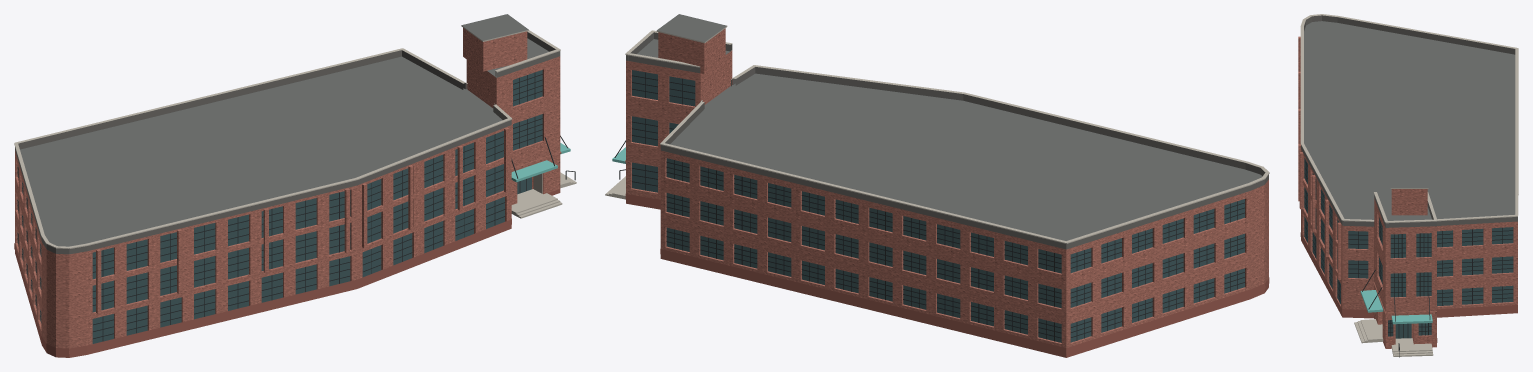
3 views of the same model, side by side, from view 1: azimuth 30°, elevation 25°; view 2: azimuth 150°, elevation 25°; view 3: azimuth 270°, elevation 25° (orthographic). The views are drawn at different scales.
Visible parts, largest first — view 1: welfare__roof, welfare__wall, welfare__glass, welfare__parapet, welfare__frame, welfare__base, welfare__trim, welfare__stair__tread, welfare__canopy; view 2: welfare__roof, welfare__wall, welfare__glass, welfare__parapet, welfare__frame, welfare__base, welfare__trim; view 3: welfare__roof, welfare__wall, welfare__glass, welfare__trim, welfare__parapet, welfare__frame, welfare__base, welfare__stair__tread, welfare__canopy.
Part boxes in pixels (x1,y1,x2,y2): welfare__roof: (20,14,548,246); welfare__wall: (15,28,561,353); welfare__glass: (17,70,542,343); welfare__parapet: (15,32,560,254); welfare__frame: (17,72,575,341); welfare__base: (14,189,560,357); welfare__trim: (14,25,560,248); welfare__stair__tread: (511,172,576,218); welfare__canopy: (511,143,570,182); welfare__roof: (637,14,1262,240); welfare__wall: (625,28,1268,353); welfare__glass: (632,70,1244,342); welfare__parapet: (626,32,1268,249); welfare__frame: (614,72,1244,341); welfare__base: (625,194,1269,357); welfare__trim: (625,26,1269,243); welfare__roof: (1304,21,1515,220); welfare__wall: (1298,36,1517,348); welfare__glass: (1304,158,1513,338); welfare__trim: (1300,14,1518,223); welfare__parapet: (1301,15,1517,227); welfare__frame: (1304,160,1513,357); welfare__base: (1300,232,1517,348); welfare__stair__tread: (1354,319,1433,356); welfare__canopy: (1360,290,1432,324).
Bounding box in the file's own units: 65.13 × 18.25 × 24.5.
12 materials, 1 textured.
